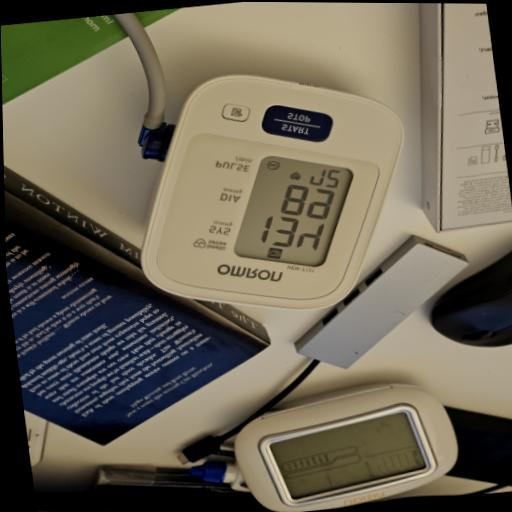blood pressure monitor: (116, 55, 426, 329)
